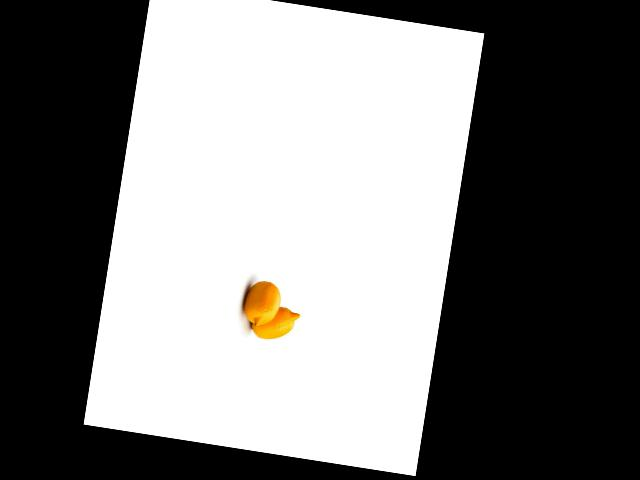lemon: (236, 275, 287, 329)
